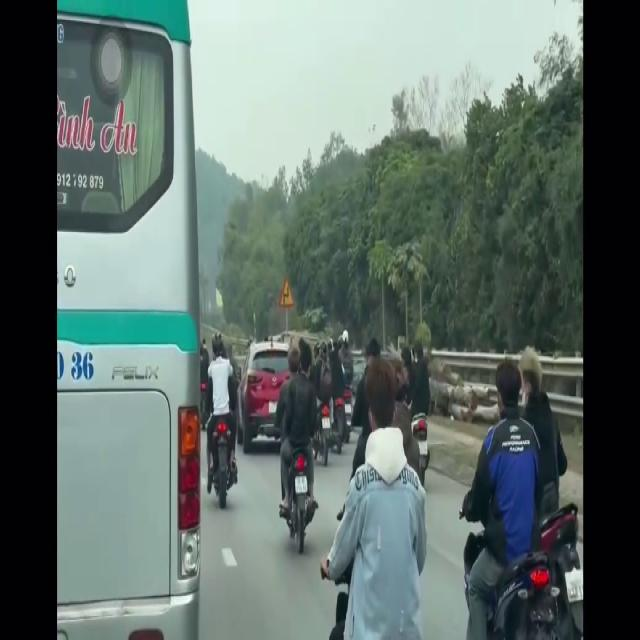no_helmet: (362, 355, 396, 438), (496, 355, 522, 427)
